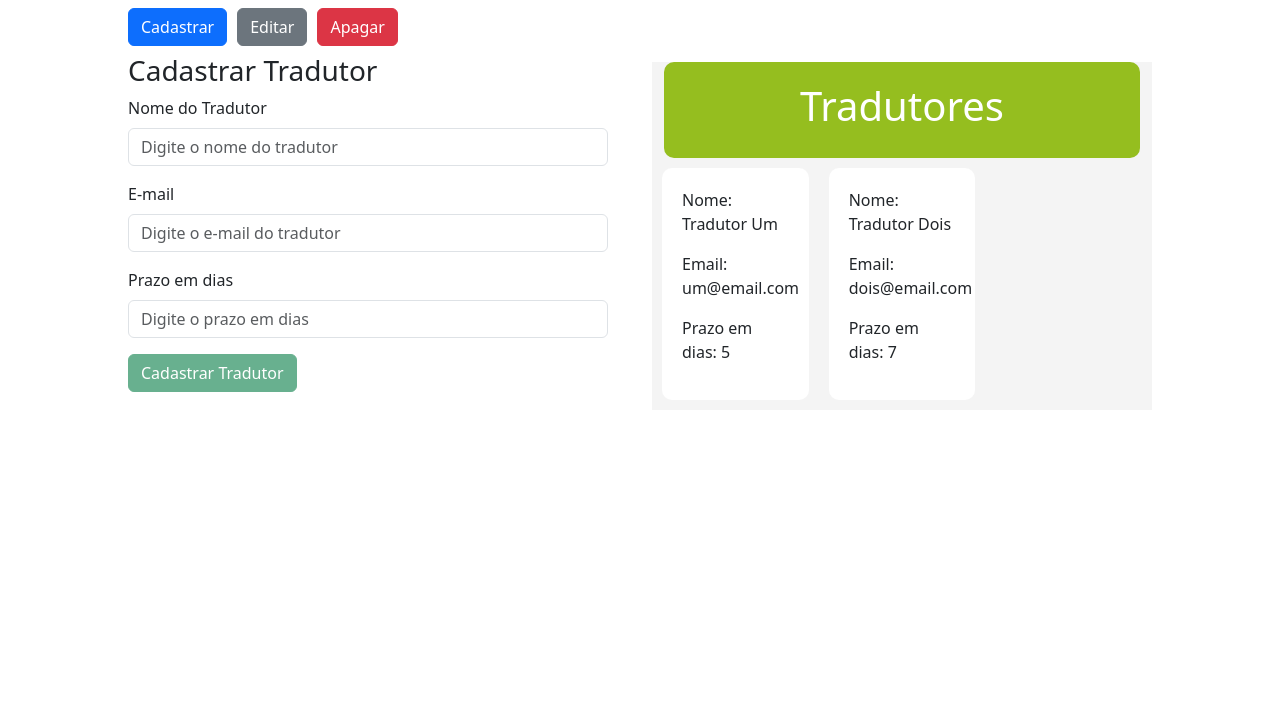
it: Translator Component › preenche e envia formulário de cadastro
This screenshot has width=1280, height=720.
In the field with placeholder "Digite o nome do tradutor": (368, 147) [128, 128, 608, 166], type "Novo Tradutor"
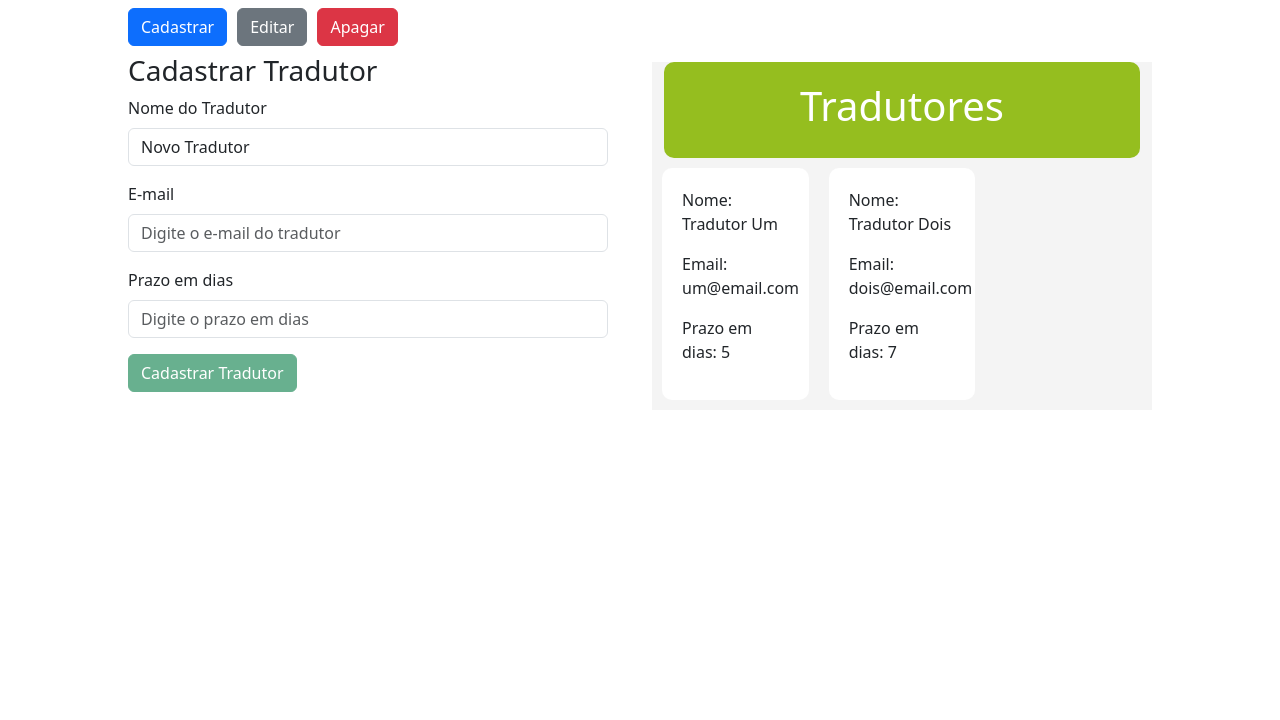
In the field with placeholder "Digite o e-mail do tradutor": (368, 233) [128, 214, 608, 252], type "novo@email.com"
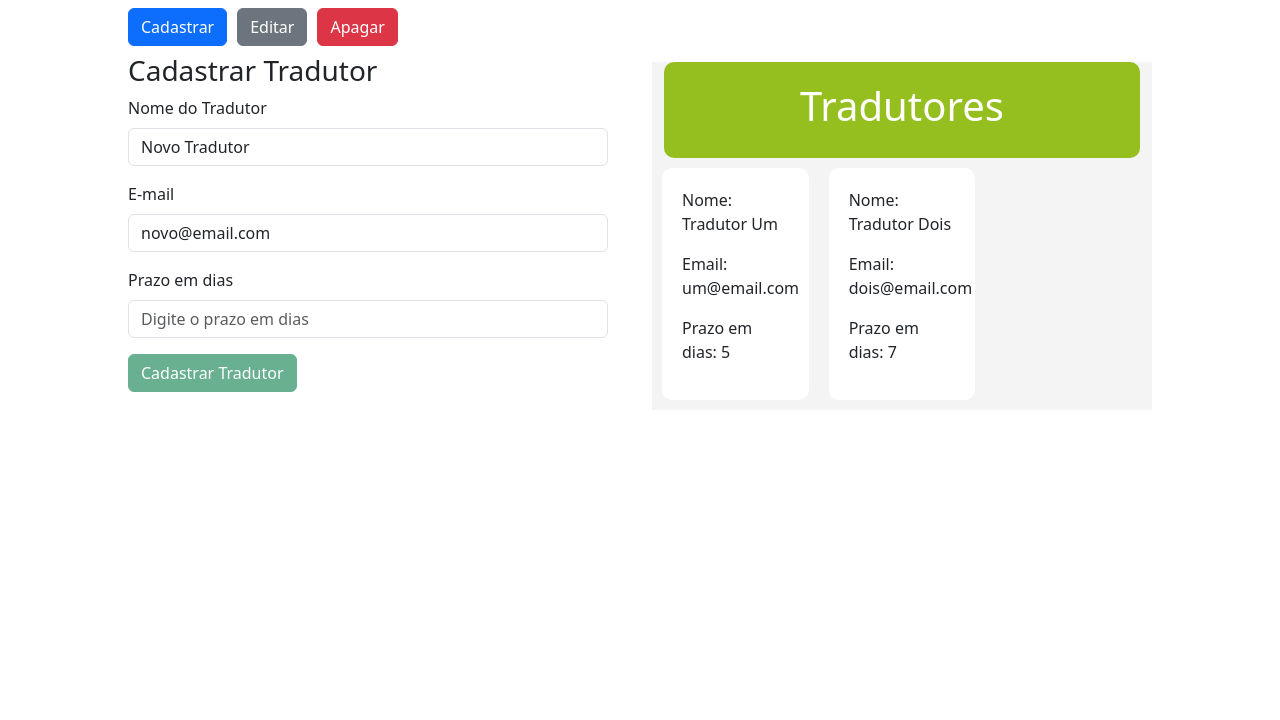
In the number field with placeholder "Digite o prazo em dias": (368, 319) [128, 300, 608, 338], type "10"
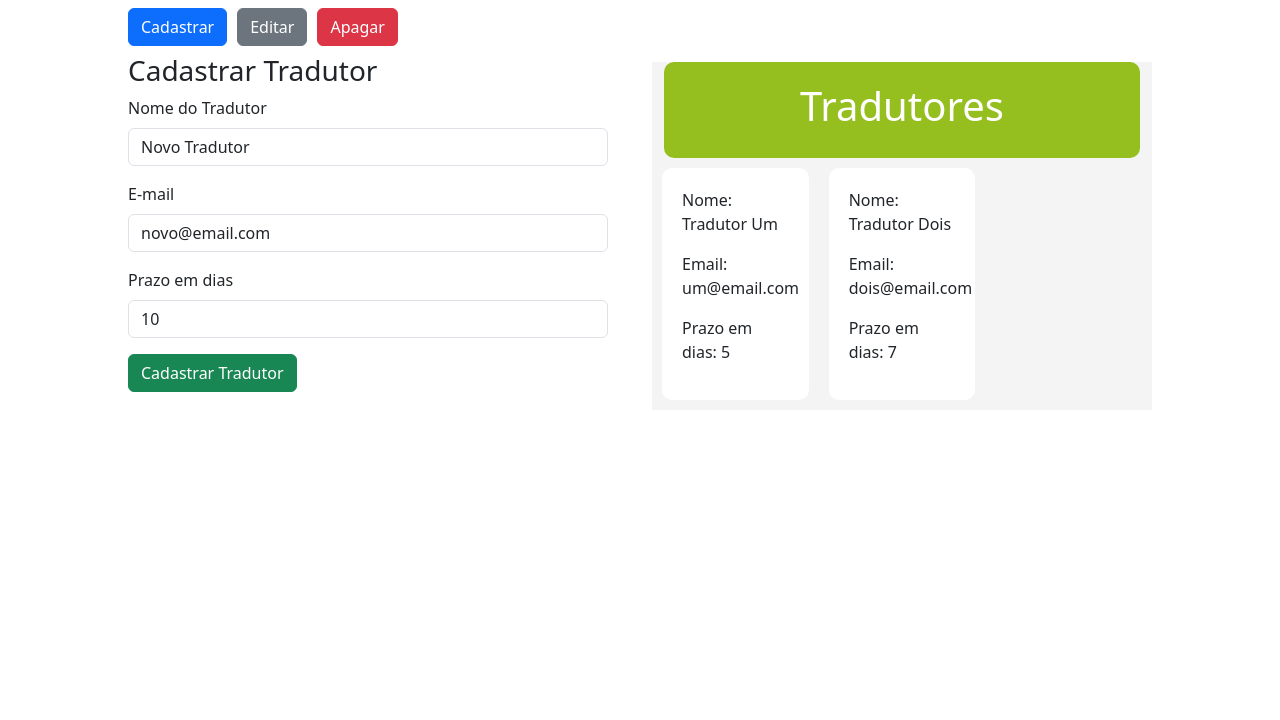
Expected: the button "Cadastrar Tradutor" is enabled
Click the button "Cadastrar Tradutor": click(212, 373) [128, 354, 296, 392]
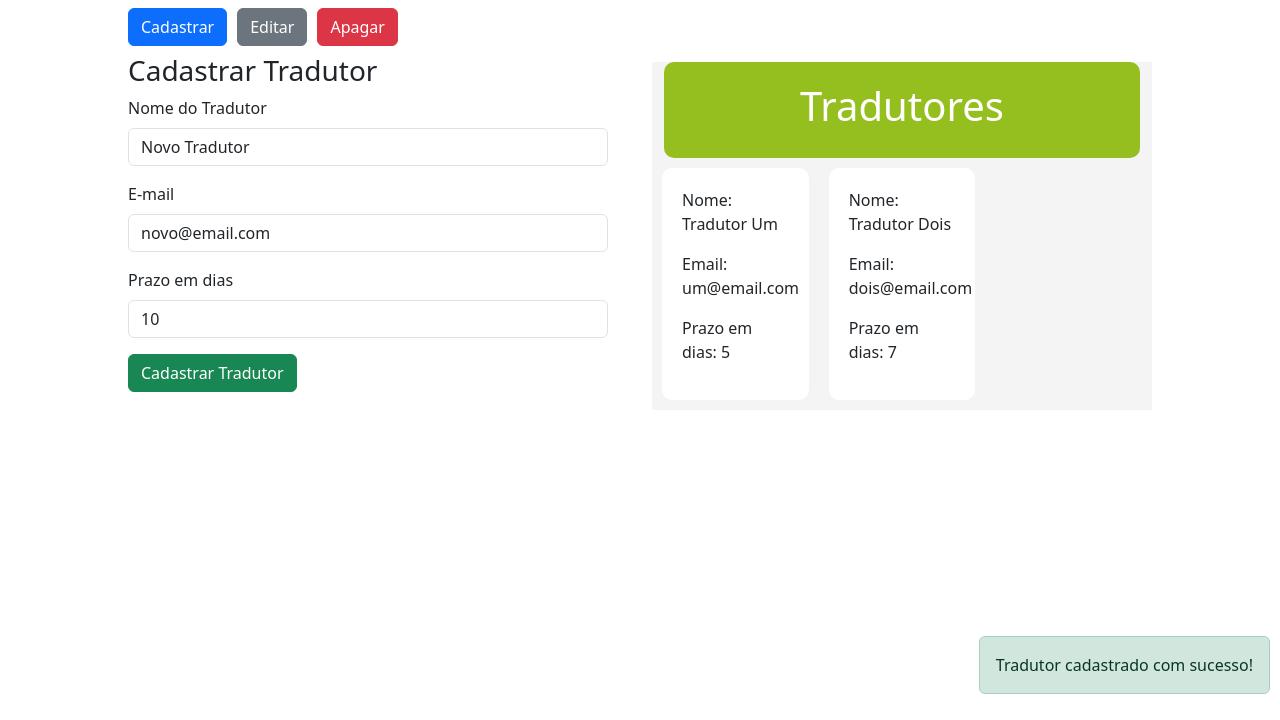
Expected: the text "Tradutor cadastrado com sucesso!" is shown, [979, 636, 1270, 694]
